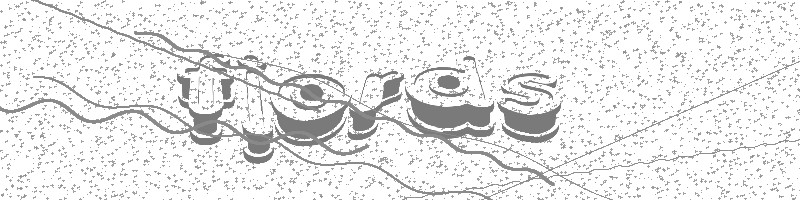d: (404, 54, 496, 138)
i: (235, 46, 277, 164)
o: (270, 68, 347, 146)
r: (349, 67, 405, 142)
s: (496, 69, 564, 144)
t: (172, 48, 237, 148)
